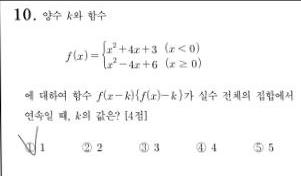choice: (20, 138, 37, 157)
not-choice: (80, 141, 93, 153), (137, 141, 150, 153), (194, 140, 206, 153), (252, 141, 264, 154)
